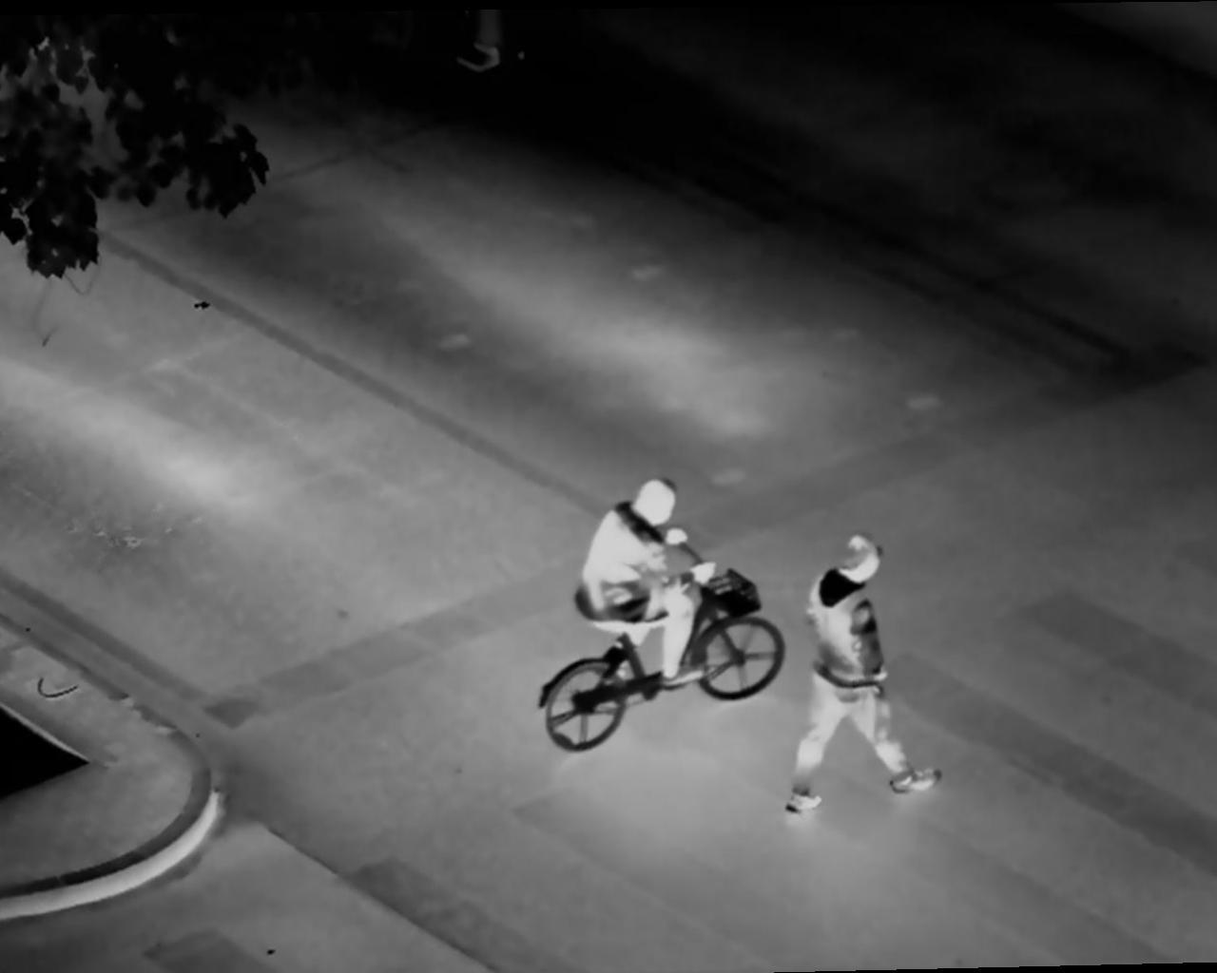person: (784, 530, 942, 809), (571, 474, 718, 688)
